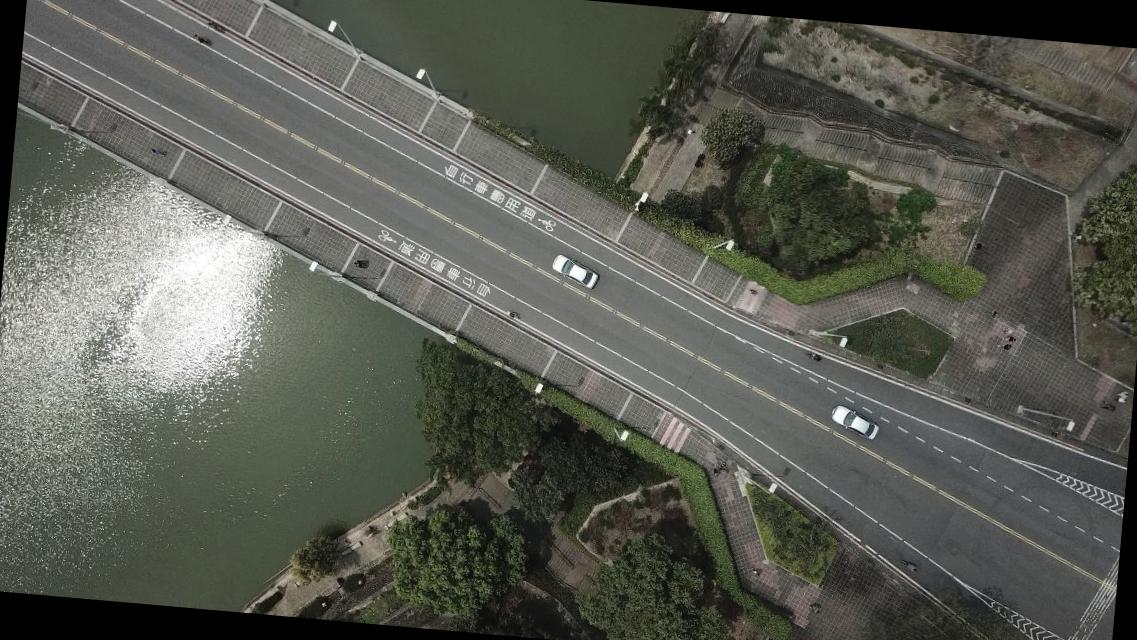vehicle: (548, 254, 600, 292), (828, 404, 881, 440)
